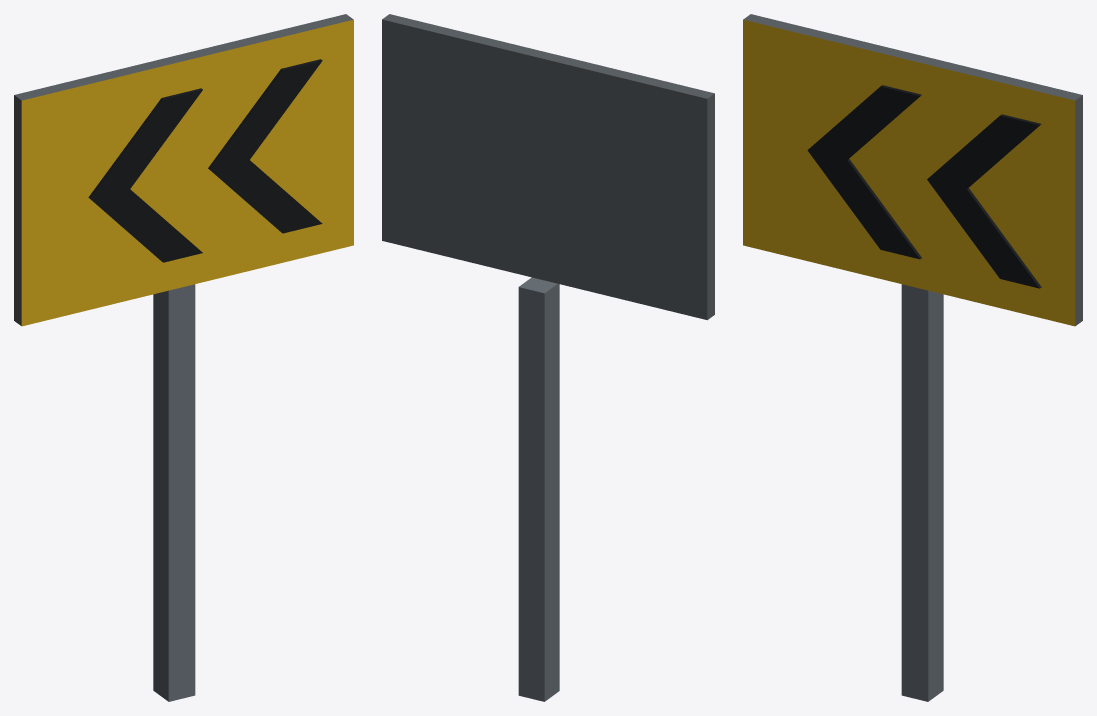
The model's file is ds_trk_sign_chevron.glb.
3 views of the same model, side by side, from view 1: azimuth 30°, elevation 25°; view 2: azimuth 150°, elevation 25°; view 3: azimuth 330°, elevation 25° (orthographic). The views are drawn at different scales.
Visible parts, largest first — view 1: ds_trk_sign_chevron; view 2: ds_trk_sign_chevron; view 3: ds_trk_sign_chevron.
Part boxes in pixels (x1,y1,x2,y2): ds_trk_sign_chevron: (14,14,353,701); ds_trk_sign_chevron: (382,14,714,701); ds_trk_sign_chevron: (743,14,1082,701).
Bounding box in the file's own units: 1 × 1.85 × 0.121.
